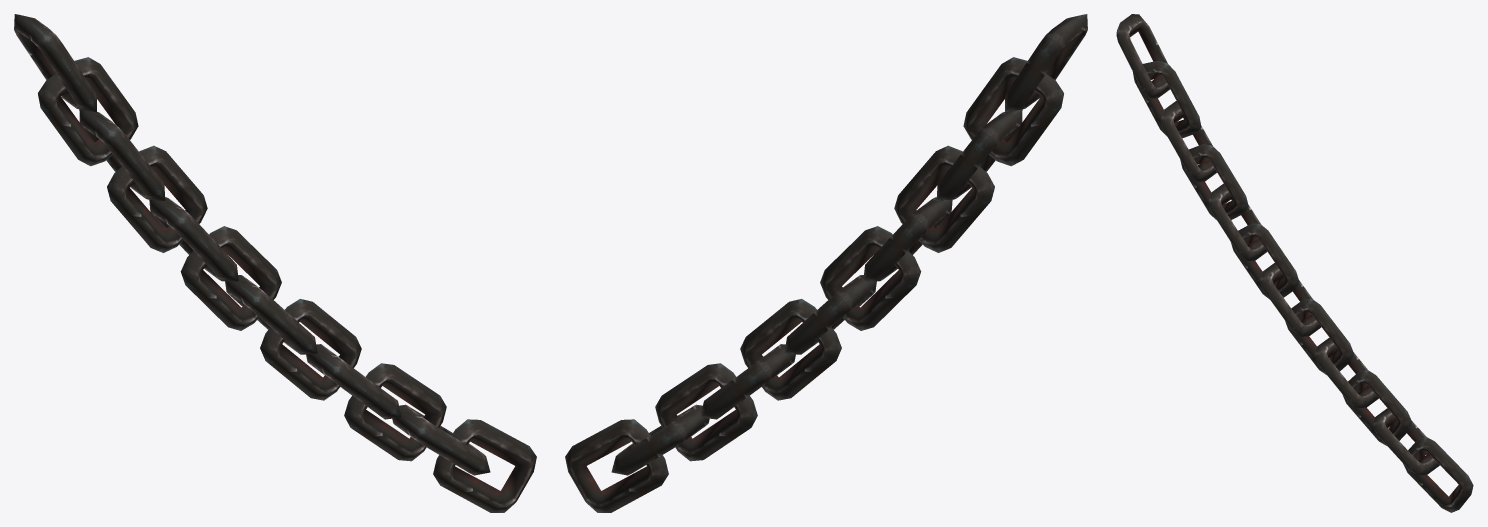
File: tielian.FBX
The picture shows the model from 3 angles, left to right: view 1: azimuth 30°, elevation 25°; view 2: azimuth 150°, elevation 25°; view 3: azimuth 330°, elevation 25°; orthographic projection. The views are drawn at different scales.
Parts seen in each view (by area): view 1: link; view 2: link; view 3: link.
Boxes of the visible parts, left/top/right/bottom form: link: left=14, top=14, right=536, bottom=512; link: left=565, top=14, right=1087, bottom=512; link: left=1116, top=14, right=1473, bottom=512.
Bounding box in the file's own units: 1102 × 1249 × 144.
